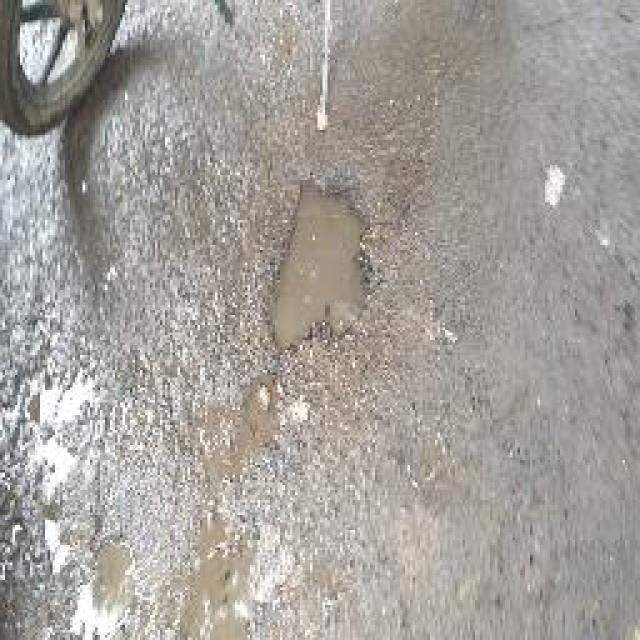stagnation: (261, 178, 385, 351)
